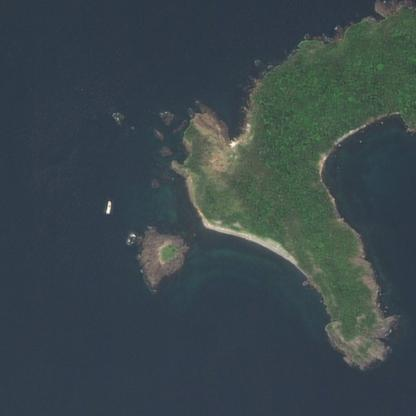ship: (105, 34, 111, 48)
